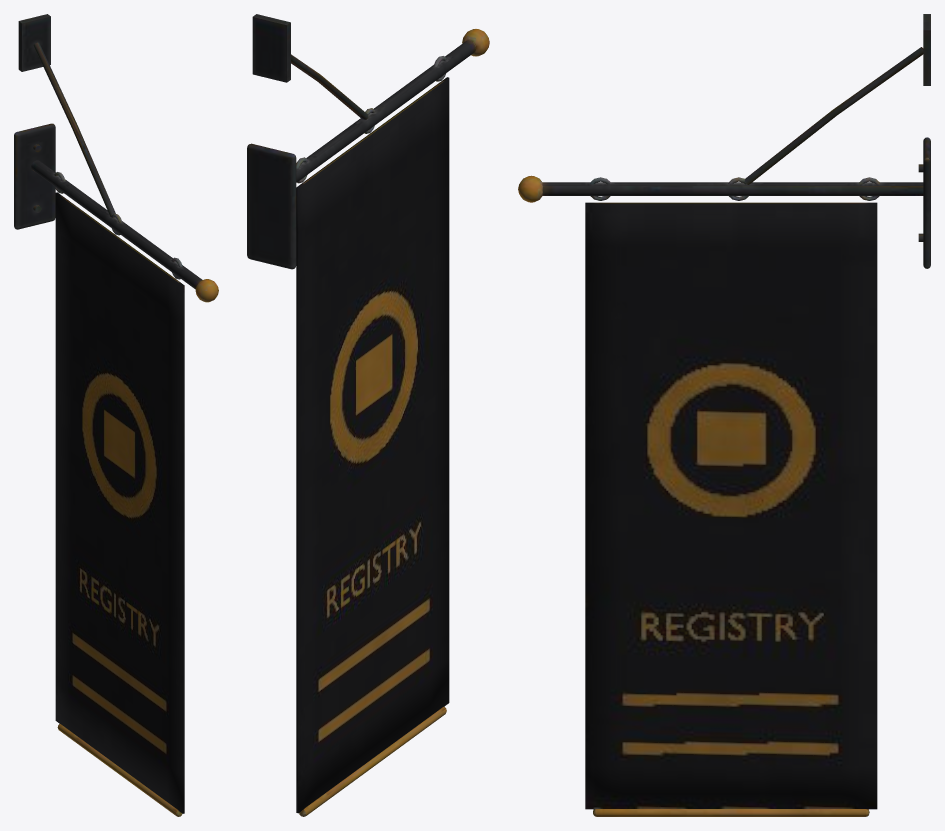
Rendered from banner_registrar.glb.
3 renders of one model, left to right at view 1: azimuth 30°, elevation 25°; view 2: azimuth 150°, elevation 25°; view 3: azimuth 270°, elevation 25°, orthographic. The views are drawn at different scales.
Visible parts, largest first — view 1: banner_registrar; view 2: banner_registrar; view 3: banner_registrar.
Part boxes in pixels (bbox=[...]): banner_registrar: bbox=[14, 14, 218, 816]; banner_registrar: bbox=[247, 14, 489, 816]; banner_registrar: bbox=[518, 14, 930, 816].
Bounding box in the file's own units: 0.14 × 2.28 × 1.07.
Materials: 1 (1 with a texture image).
